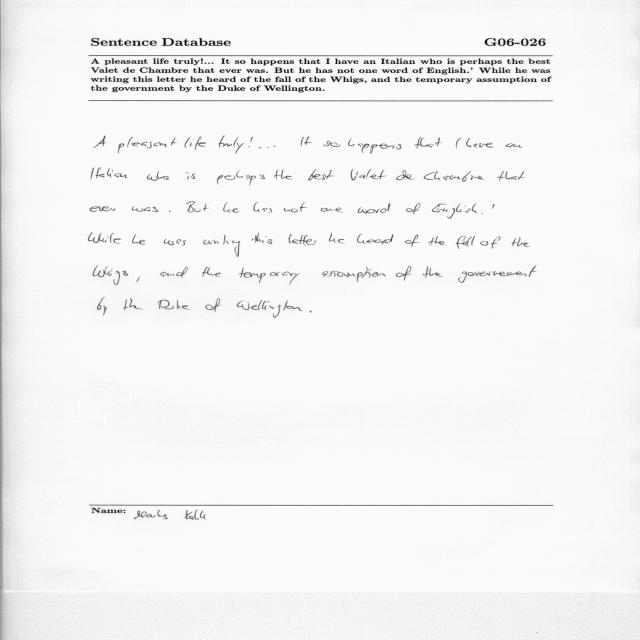word: (458, 265, 536, 283), (237, 300, 302, 318), (239, 268, 300, 286), (322, 267, 386, 282), (118, 137, 177, 153), (348, 138, 401, 154), (203, 235, 240, 257), (217, 171, 265, 186), (432, 204, 477, 219), (93, 266, 128, 285), (424, 171, 484, 182), (218, 136, 244, 154), (91, 168, 128, 179), (351, 169, 387, 180), (357, 234, 394, 244), (88, 233, 121, 244), (358, 203, 390, 214), (158, 300, 191, 310), (415, 137, 442, 149), (184, 137, 206, 151), (289, 235, 317, 246), (160, 267, 188, 278), (308, 169, 334, 180), (497, 171, 525, 181), (480, 236, 501, 249), (466, 138, 493, 148), (456, 236, 475, 249), (284, 203, 308, 213), (396, 266, 412, 281), (423, 266, 442, 278), (124, 299, 143, 311), (205, 299, 221, 313), (147, 171, 169, 181), (187, 202, 209, 212), (252, 233, 272, 244), (274, 169, 293, 180), (253, 202, 272, 213), (396, 170, 415, 180), (202, 267, 221, 277), (97, 297, 107, 316), (512, 237, 530, 247), (428, 236, 445, 246), (405, 235, 419, 247), (223, 203, 239, 213), (329, 233, 345, 243), (132, 206, 158, 212), (406, 203, 420, 214), (132, 234, 146, 245), (90, 206, 115, 212), (94, 136, 106, 148), (164, 239, 186, 245), (301, 137, 312, 147), (321, 208, 343, 213), (323, 141, 340, 147), (506, 143, 522, 148), (186, 172, 196, 180), (248, 137, 253, 148), (259, 146, 276, 149), (456, 138, 461, 148), (137, 277, 140, 283), (492, 204, 495, 209), (309, 311, 312, 313), (169, 210, 171, 212), (481, 214, 483, 215)
